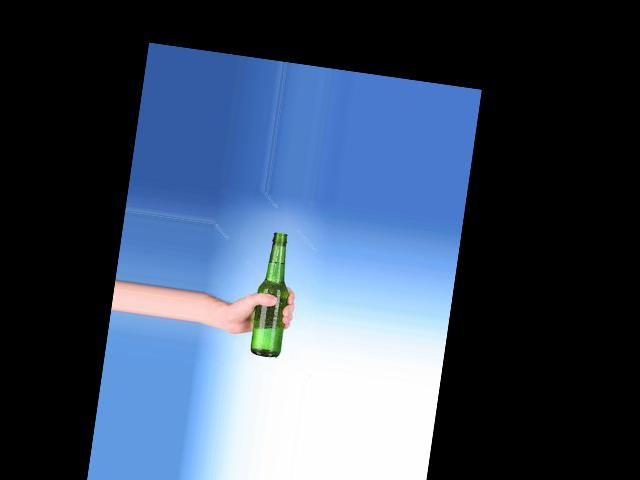beer: (249, 230, 296, 358)
